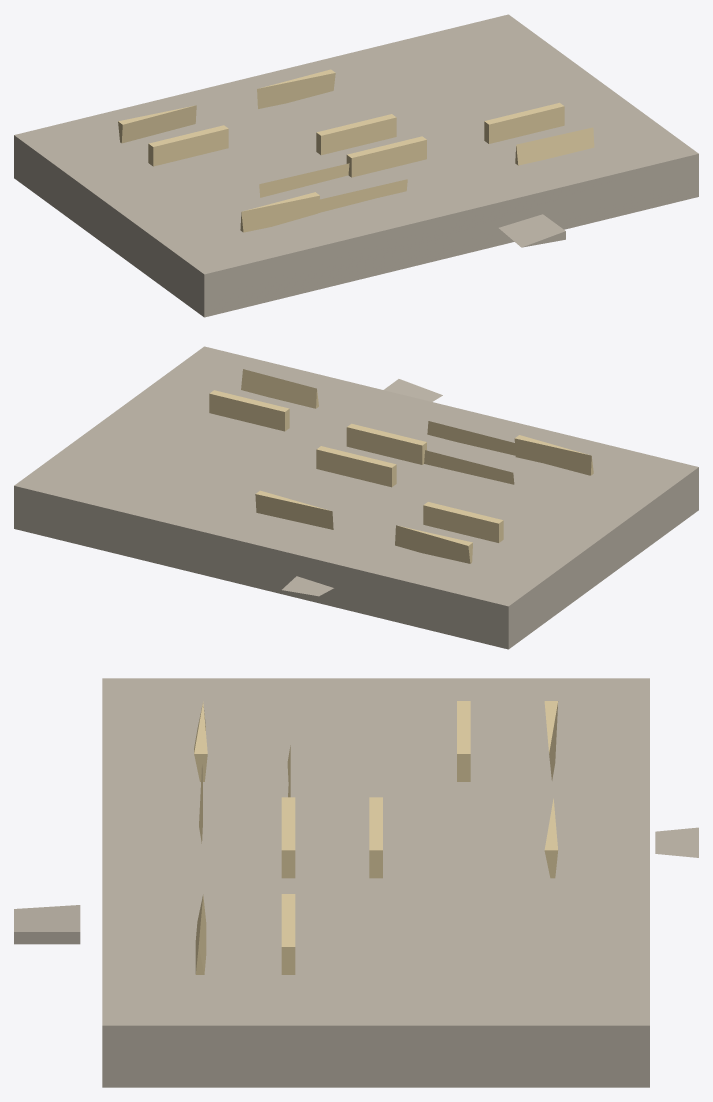
The model's file is 25-Ruinas-Templos_losa_grabado.glb.
3 views of the same model, one above another, from view 1: azimuth 30°, elevation 25°; view 2: azimuth 150°, elevation 25°; view 3: azimuth 270°, elevation 25° (orthographic). The views are drawn at different scales.
Visible parts, largest first — view 1: SM_Losa_M_Losa_Grabado, SM_Losa_M_Talla_Grabado; view 2: SM_Losa_M_Losa_Grabado, SM_Losa_M_Talla_Grabado; view 3: SM_Losa_M_Losa_Grabado, SM_Losa_M_Talla_Grabado.
Part boxes in pixels (<box>): SM_Losa_M_Losa_Grabado: <box>14,14,698,317</box>; SM_Losa_M_Talla_Grabado: <box>118,69,594,232</box>; SM_Losa_M_Losa_Grabado: <box>14,346,698,649</box>; SM_Losa_M_Talla_Grabado: <box>209,369,593,563</box>; SM_Losa_M_Losa_Grabado: <box>14,678,698,1087</box>; SM_Losa_M_Talla_Grabado: <box>194,701,558,974</box>.
Bounding box in the file's own units: 1.2 × 0.1452 × 1.
